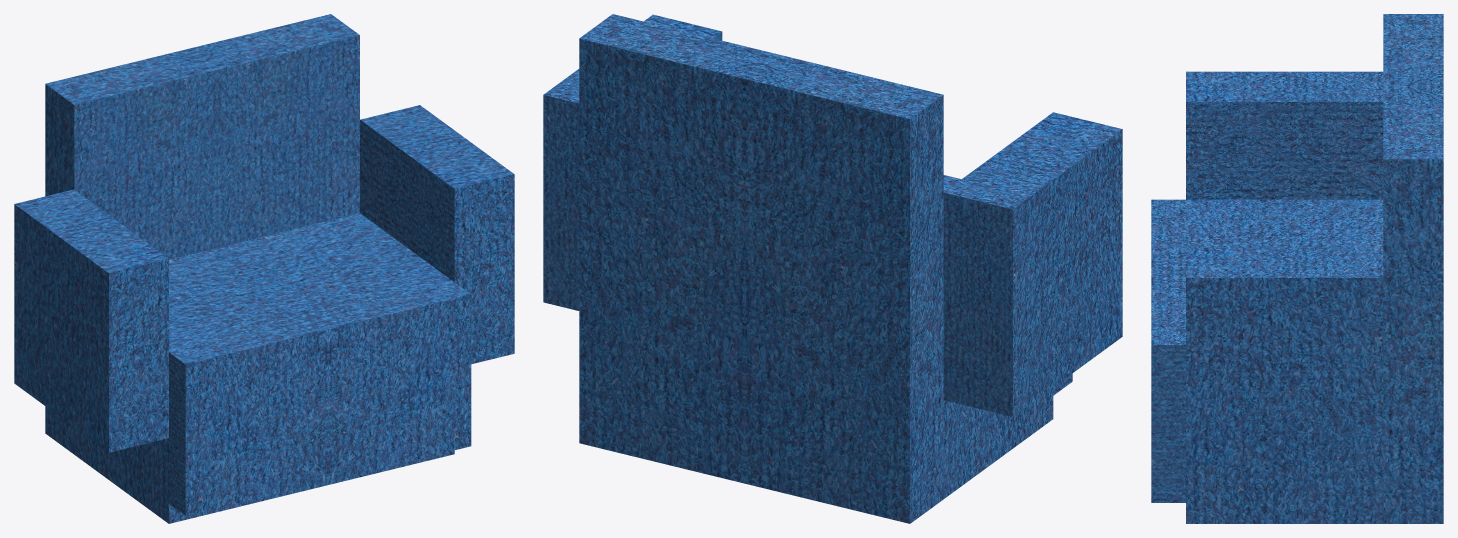
Rendered from couch.fbx.
3 renders of one model, left to right at view 1: azimuth 30°, elevation 25°; view 2: azimuth 150°, elevation 25°; view 3: azimuth 270°, elevation 25°, orthographic. The views are drawn at different scales.
Visible parts, largest first — view 1: Cube; view 2: Cube; view 3: Cube.
Boxes of the visible parts, x1,y1,x2,y2 form: Cube: [14, 14, 514, 523]; Cube: [543, 14, 1122, 523]; Cube: [1151, 14, 1443, 523].
Size of the model in its own units: 494 by 407 by 296.
